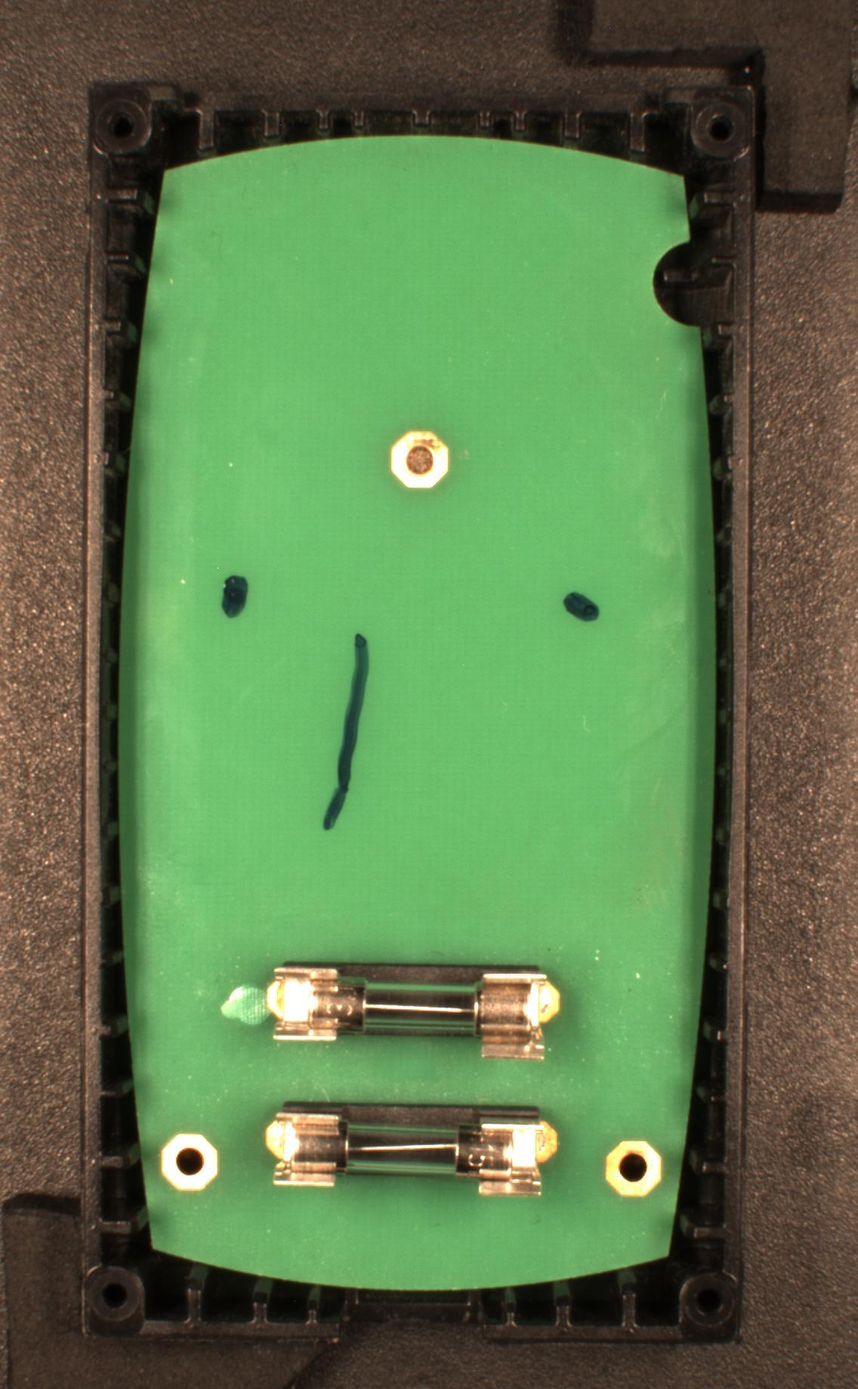Linijsko Ostecene: (320, 628, 372, 834)
Tockasto Ostecenje: (562, 589, 606, 624), (219, 572, 248, 622)
